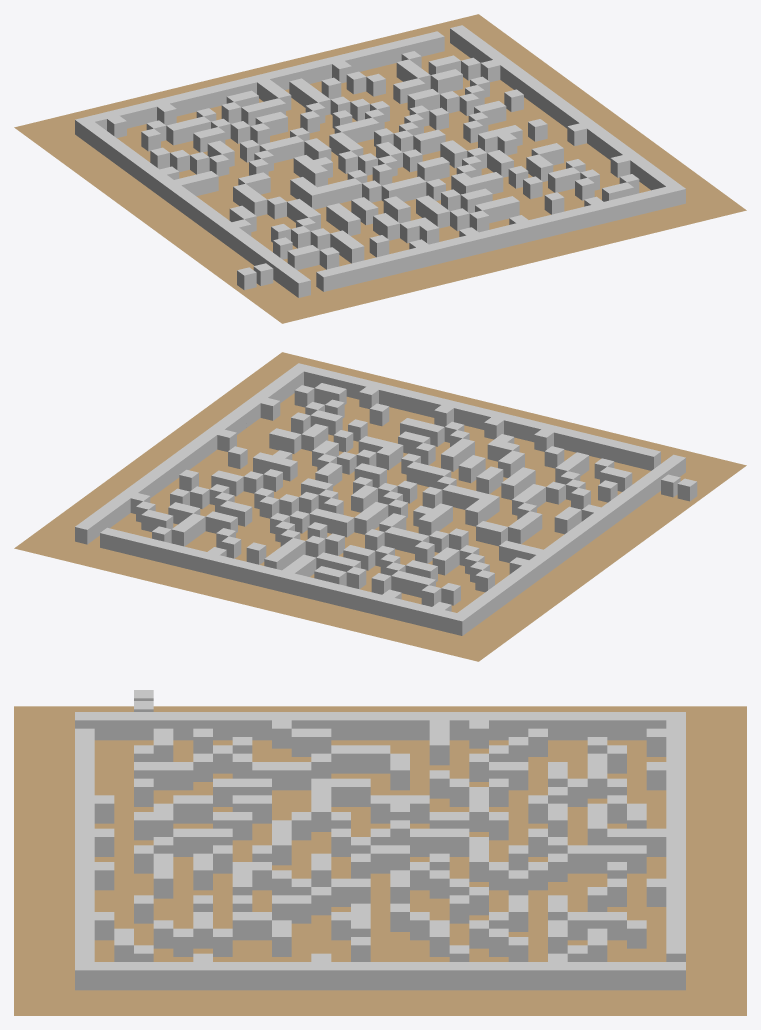
File: map3.glb
3 renders of one model, top to bottom at view 1: azimuth 30°, elevation 25°; view 2: azimuth 150°, elevation 25°; view 3: azimuth 270°, elevation 25°, orthographic. The views are drawn at different scales.
Parts seen in each view (by area): view 1: MazeFloor; view 2: MazeFloor; view 3: MazeFloor, Wall_10_1, Wall_19_4, Wall_25_4, Wall_10_5, Wall_22_11, Wall_4_15, Wall_10_15, Wall_16_15, Wall_7_18, Wall_19_18, Wall_22_19 (+137 smaller).
Boxes of the visible parts, x1,y1,x2,y2 form: MazeFloor: (14,14,746,323); MazeFloor: (14,352,746,661); MazeFloor: (14,706,746,1015); Wall_10_1: (94,795,114,823); Wall_19_4: (153,870,173,898); Wall_25_4: (153,920,173,948); Wall_10_5: (173,795,193,823); Wall_22_11: (291,895,311,923); Wall_4_15: (370,745,390,773); Wall_10_15: (370,795,390,823); Wall_16_15: (370,845,390,873); Wall_7_18: (429,770,449,798); Wall_19_18: (429,870,449,898); Wall_22_19: (449,895,469,923).
Bounding box in the file's own units: 297 × 9 × 297.
